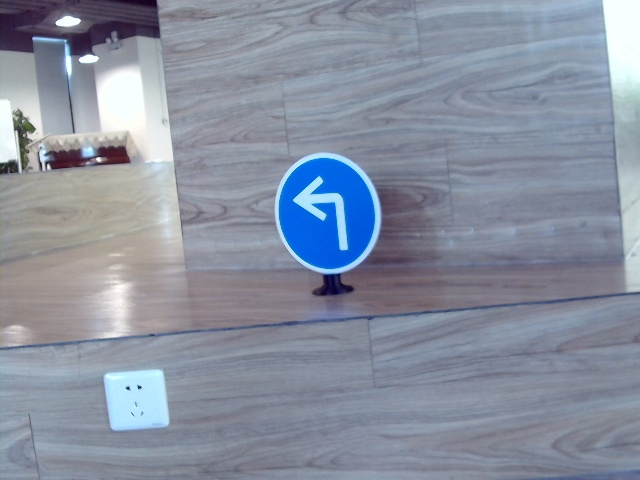turn_left: (288, 173, 359, 249)
